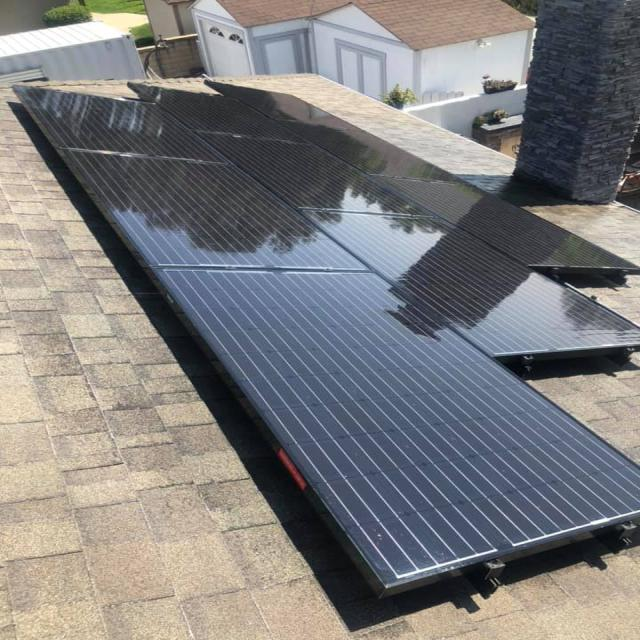clean-solar-panel: (16, 85, 640, 592)
